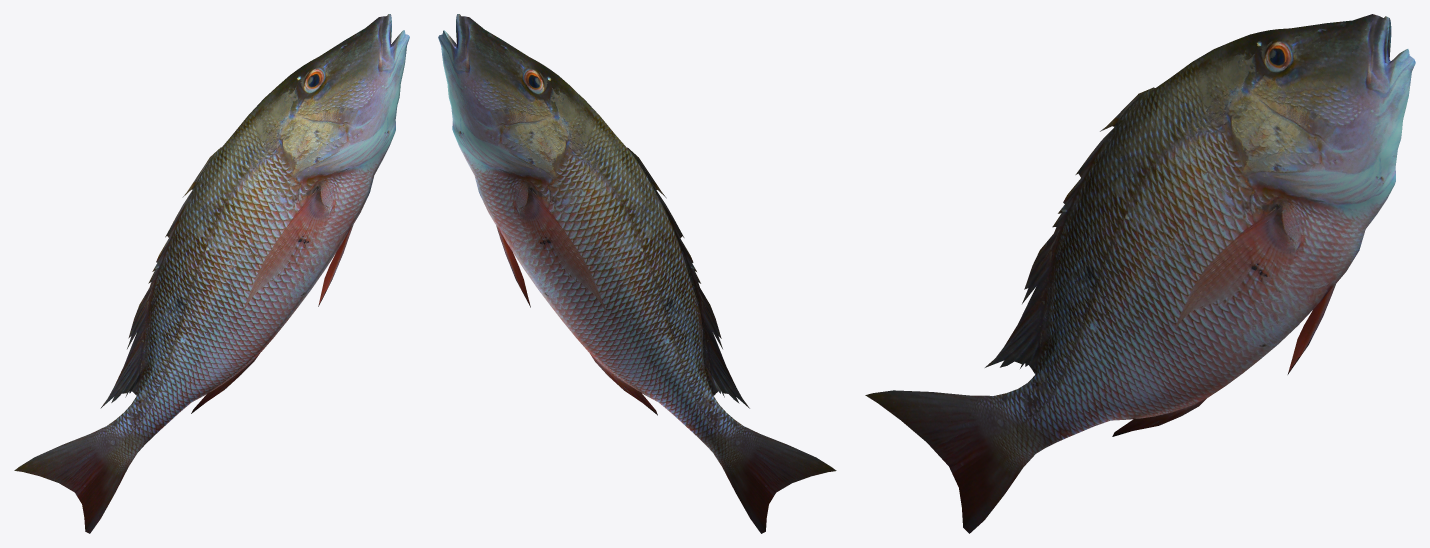
File: pez.obj
3 renders of one model, left to right at view 1: azimuth 30°, elevation 25°; view 2: azimuth 150°, elevation 25°; view 3: azimuth 330°, elevation 25°, orthographic. The views are drawn at different scales.
Parts seen in each view (by area): view 1: Line01; view 2: Line01; view 3: Line01.
Boxes of the visible parts, box(x1,y1,x2,y2) form: Line01: box(14, 14, 409, 533); Line01: box(438, 14, 836, 533); Line01: box(865, 14, 1415, 533).
Size of the model in its own units: 2.64 by 2.84 by 0.089.
Materials: 1 (1 with a texture image).
